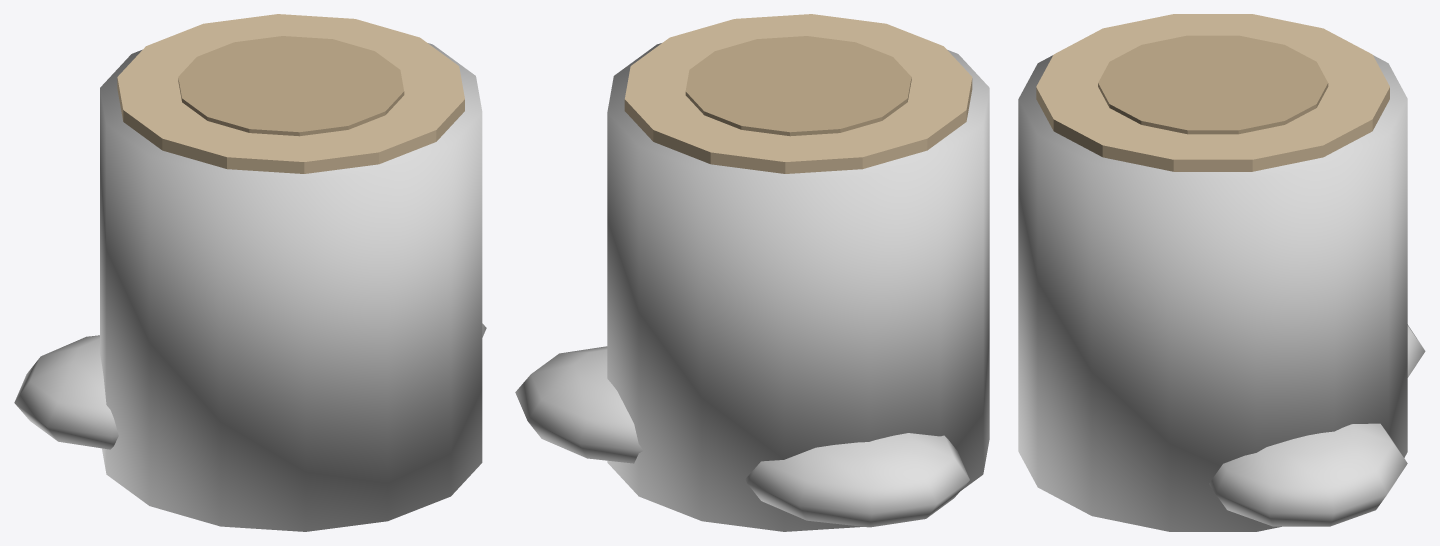
Rendered from stump.fbx.
The picture shows the model from 3 angles, left to right: view 1: azimuth 30°, elevation 25°; view 2: azimuth 150°, elevation 25°; view 3: azimuth 270°, elevation 25°; orthographic projection.
Visible parts, largest first — view 1: EN_stump; view 2: EN_stump; view 3: EN_stump.
Part boxes in pixels (x1,y1,x2,y2): EN_stump: (14,14,486,531); EN_stump: (515,14,989,531); EN_stump: (1018,14,1425,531).
Bounding box in the file's own units: 56.63 × 46 × 46.
